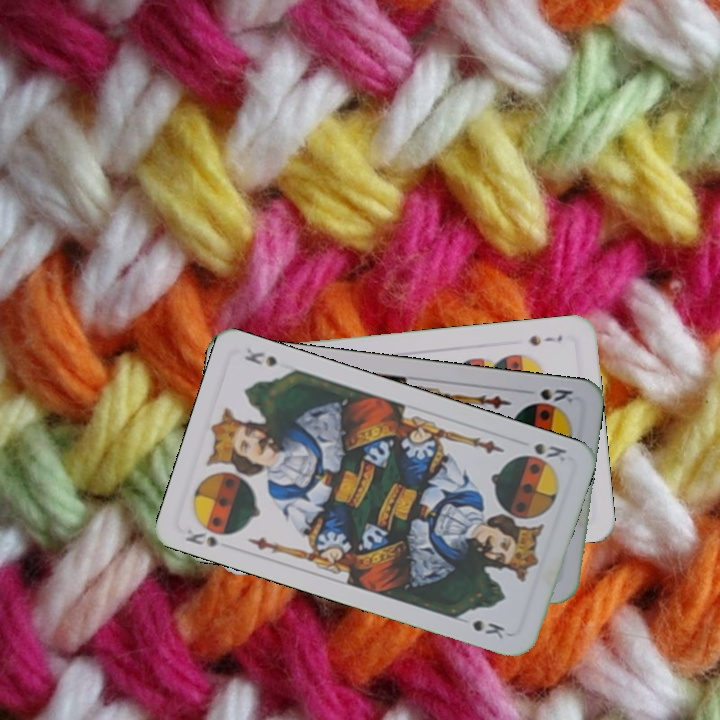S7: (524, 331, 565, 349)
SK: (181, 519, 236, 550), (519, 384, 578, 406), (530, 439, 570, 465)
